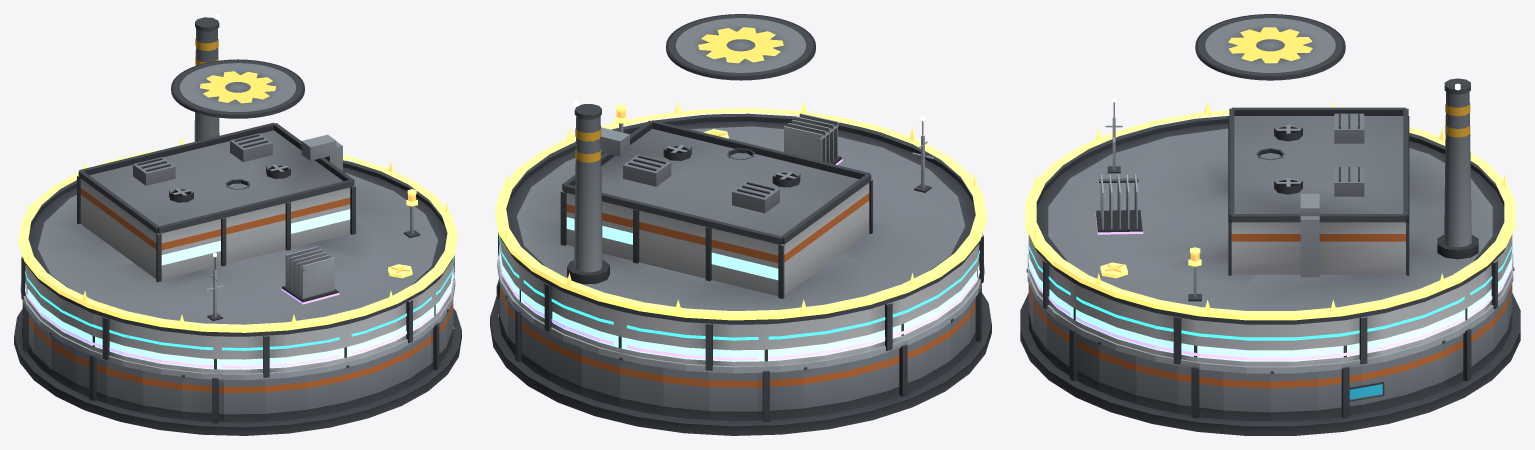
File: electronics_fab_s.glb
3 views of the same model, side by side, from view 1: azimuth 30°, elevation 25°; view 2: azimuth 150°, elevation 25°; view 3: azimuth 270°, elevation 25° (orthographic). The views are drawn at different scales.
Parts seen in each view (by area): view 1: Roof, Base, L4, Wall_20, Wall_21, Wall_22, Wall_19, Wall_23, Wall_18, Wall_24, Upper_21, Upper_20 (+25 smaller); view 2: Roof, Base, Wall_11, Wall_10, Wall_09, L4, Wall_12, Wall_08, Wall_13, Wall_07, Upper_10, Upper_11 (+28 smaller); view 3: Roof, Base, Wall_00, Wall_31, Wall_30, Wall_01, Wall_29, L4, Upper_01, Upper_30, Upper_00, Upper_31 (+27 smaller).
Part boxes in pixels (box(x1,y1,x2,y2)): Roof: box(25, 14, 452, 336); Base: box(14, 308, 461, 435); L4: box(281, 246, 339, 304); Wall_20: box(181, 375, 223, 423); Wall_21: box(224, 379, 265, 422); Wall_22: box(266, 375, 307, 421); Wall_19: box(142, 370, 182, 419); Wall_23: box(307, 368, 345, 417); Wall_18: box(106, 361, 142, 412); Wall_24: box(345, 357, 380, 410); Upper_21: box(224, 335, 266, 377); Upper_20: box(182, 333, 223, 373); Roof: box(500, 14, 979, 324); Base: box(490, 293, 991, 435); Wall_11: box(756, 369, 803, 421); Wall_10: box(709, 372, 756, 421); Wall_09: box(663, 367, 709, 419); L4: box(784, 113, 842, 164); Wall_12: box(803, 362, 847, 417); Wall_08: box(619, 357, 663, 415); Wall_13: box(848, 352, 887, 410); Wall_07: box(581, 348, 619, 406); Upper_10: box(709, 323, 756, 370); Upper_11: box(756, 321, 803, 365); Roof: box(1035, 14, 1505, 324); Base: box(1020, 293, 1520, 435); Wall_00: box(1270, 371, 1317, 421); Wall_31: box(1223, 371, 1270, 421); Wall_30: box(1177, 366, 1223, 419); Wall_01: box(1317, 366, 1362, 419); Wall_29: box(1136, 356, 1177, 413); L4: box(1095, 174, 1143, 234); Upper_01: box(1317, 317, 1364, 364); Upper_30: box(1176, 317, 1223, 364); Upper_00: box(1270, 322, 1317, 366); Upper_31: box(1223, 322, 1270, 366).
Size of the model in its own units: 11.74 by 7.38 by 11.74.
